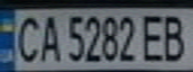2: (118, 11, 142, 63), (81, 11, 103, 63)
5: (63, 11, 84, 63)
8: (100, 12, 121, 63)
A: (36, 11, 63, 63)
B: (157, 11, 193, 62)
C: (9, 11, 42, 64)
E: (139, 11, 169, 63)
